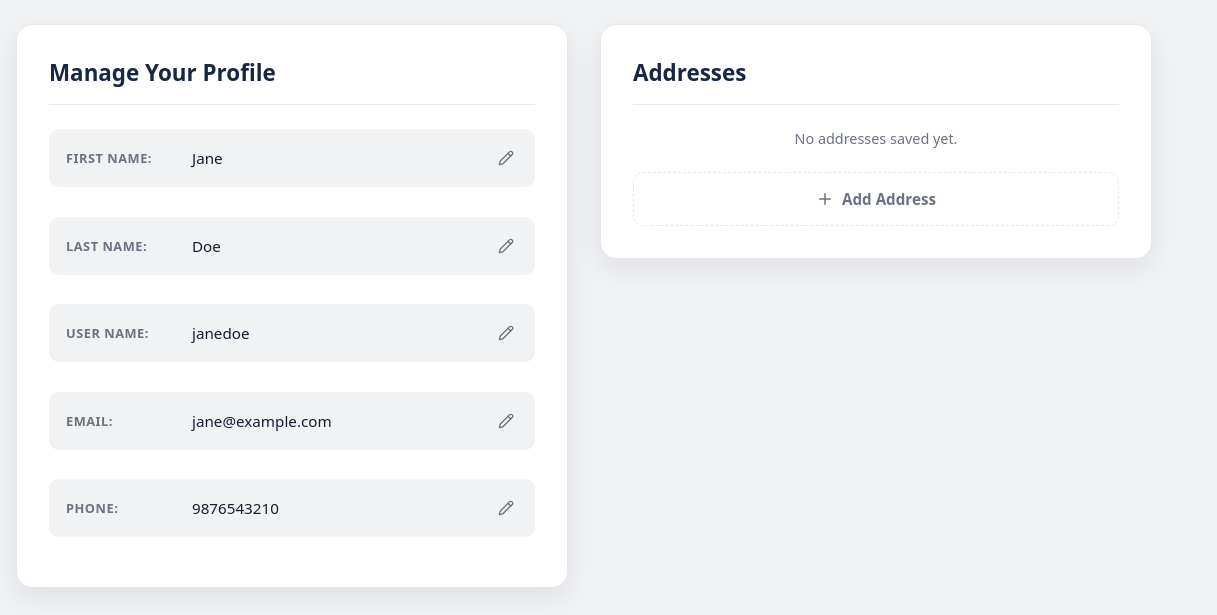
Test case: ProfilePage — inline editing › submits on Enter key press
The width and height of the screenshot is (1217, 615).
Click the button named "Edit First Name".
click(506, 158)  # box left=494, top=146, right=518, bottom=170
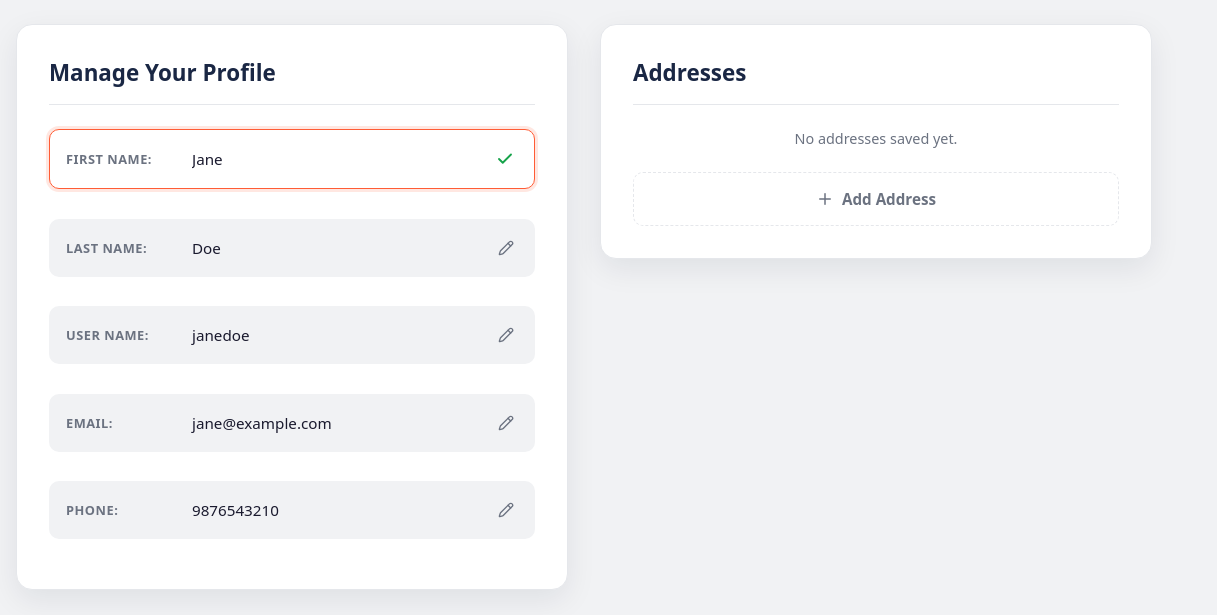
Replace the text in the field named "First Name" with "Janet" at {"x": 334, "y": 159}, box left=192, top=149, right=476, bottom=169
Then press Enter
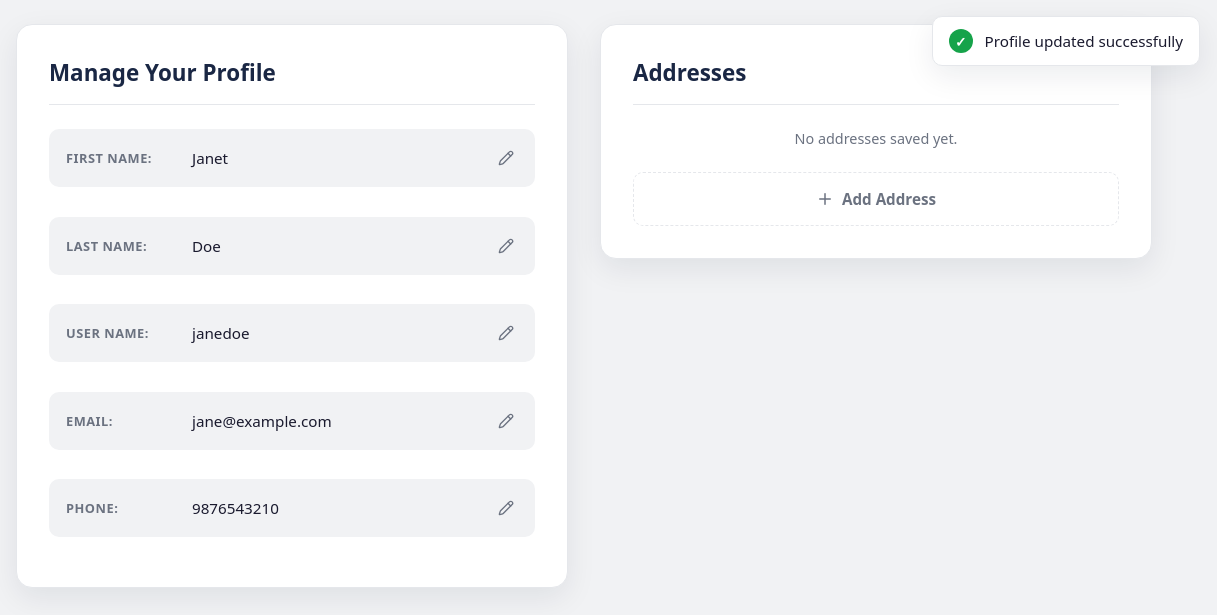
Expected: the text "Profile updated successfully" is shown, left=985, top=31, right=1183, bottom=51
